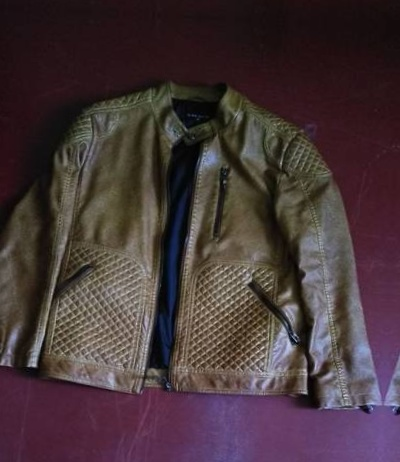Blazer: (0, 53, 381, 422)
